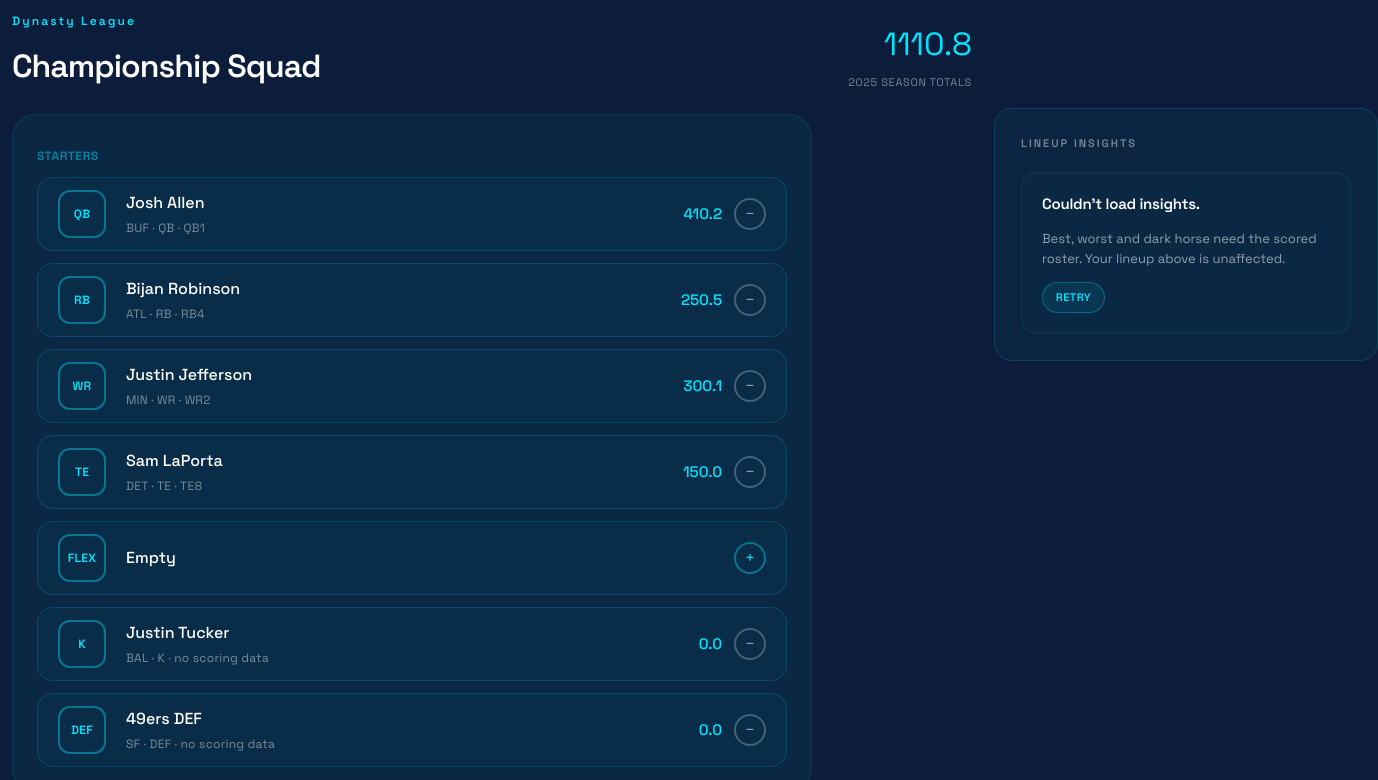
ViewLineupPanel › loading, error, and insights refresh › shows the insights error card on a non-ok /lineup-insights, leaves the roster usable, and retries
Check: the text "Couldn't load insights." is shown, box [1042,192,1200,215]
Check: the text "Justin Jefferson" is shown, box [126,364,252,385]
Click the button "RETRY" at (1073, 298), box [1042,282,1105,313]
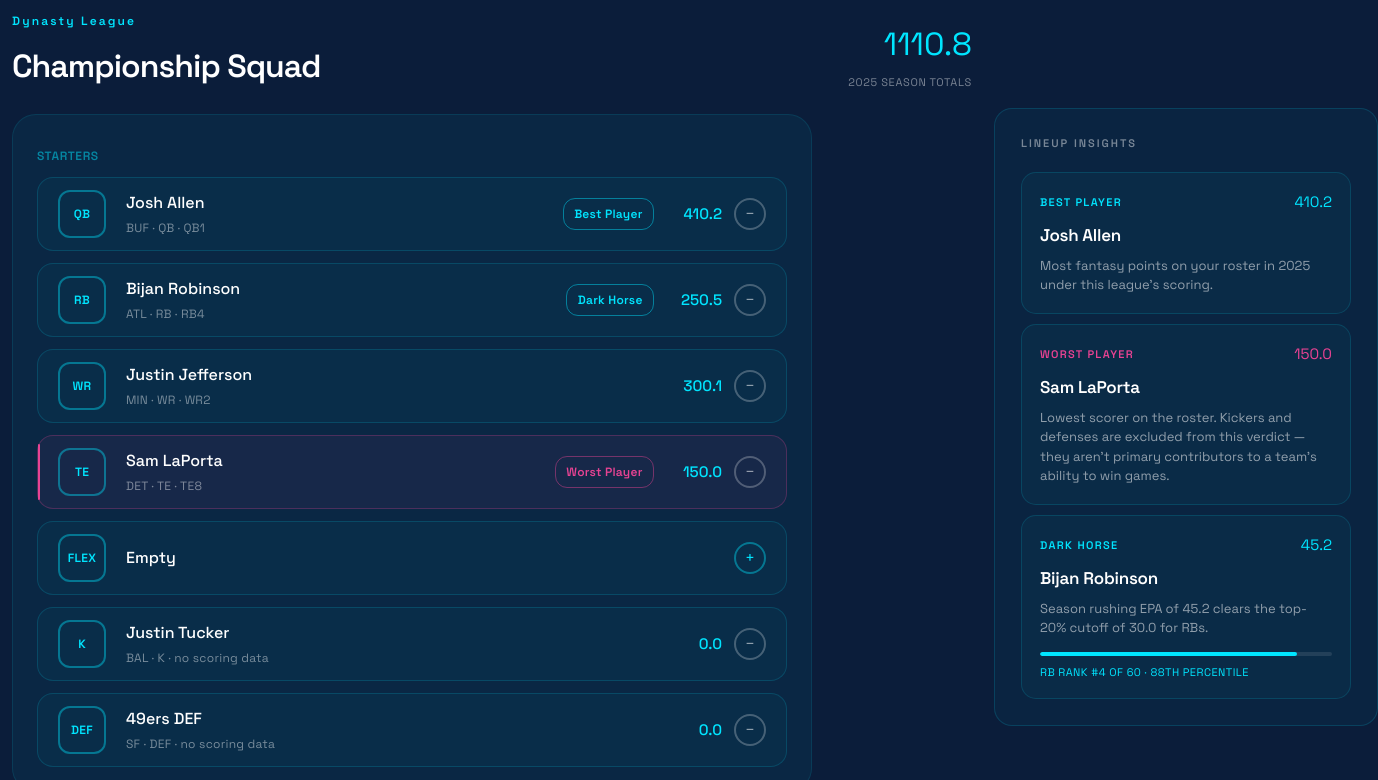
Check: the text "Best Player" is shown, box [563,198,654,230]
Check: the text "Couldn't load insights." is gone
